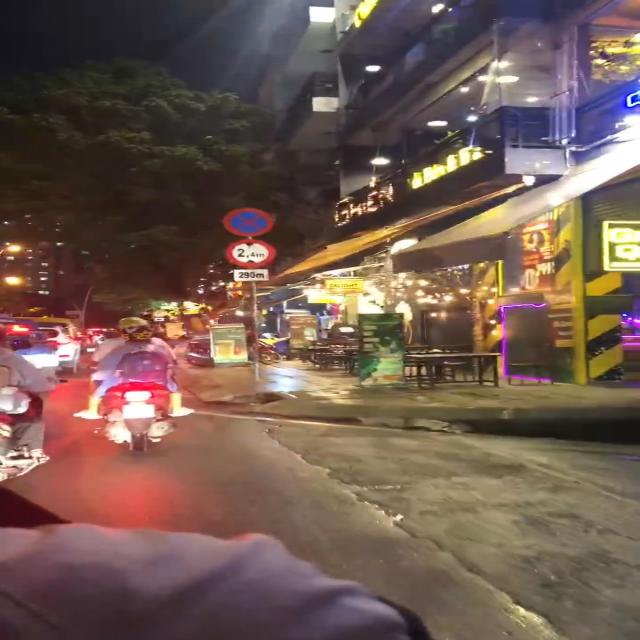Bien bao cam dung xe va do xe: (216, 204, 276, 238)
Bien bao han che chieu cao: (226, 238, 279, 269)
